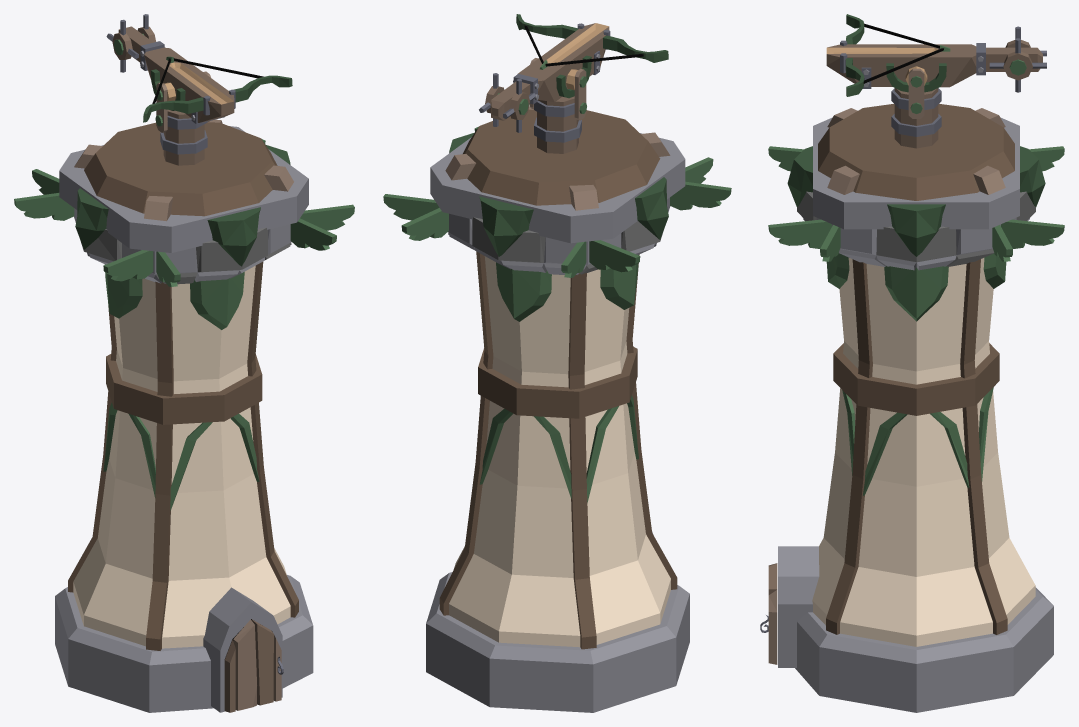
File: Ballista_Tower_LVL_2.gltf
3 views of the same model, side by side, from view 1: azimuth 30°, elevation 25°; view 2: azimuth 150°, elevation 25°; view 3: azimuth 270°, elevation 25° (orthographic). The views are drawn at different scales.
Parts seen in each view (by area): view 1: Ballista_Tower_LVL_2_Body, Ballista_Tower_LVL_2_Head; view 2: Ballista_Tower_LVL_2_Body, Ballista_Tower_LVL_2_Head; view 3: Ballista_Tower_LVL_2_Body, Ballista_Tower_LVL_2_Head.
Part boxes in pixels (<box>): Ballista_Tower_LVL_2_Body: <box>55,242,313,712</box>; Ballista_Tower_LVL_2_Head: <box>14,14,354,286</box>; Ballista_Tower_LVL_2_Body: <box>426,232,689,712</box>; Ballista_Tower_LVL_2_Head: <box>383,14,731,277</box>; Ballista_Tower_LVL_2_Body: <box>760,218,1053,712</box>; Ballista_Tower_LVL_2_Head: <box>768,14,1064,262</box>.
Bounding box in the file's own units: 3.05 × 7.06 × 3.14.
2 materials, 2 textured.
